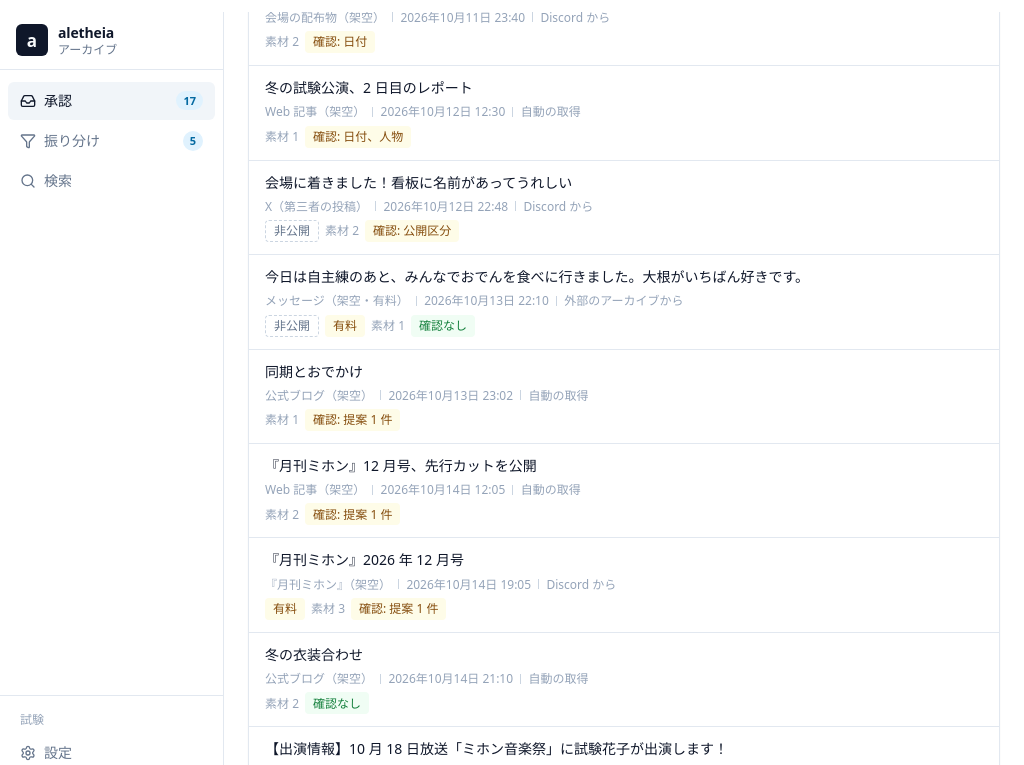
Test: 原文の保存の状況 › 原文を保存していないブログは、承認の前に足りないと分かる
(page scrolled)
Click the link "同期とおでかけ 公式ブログ（架空）2026年10月13日 23:02自動の取得 素材 1 確認: 提案 1 件". click: coordinates (427, 396)
box: [265, 362, 588, 431]
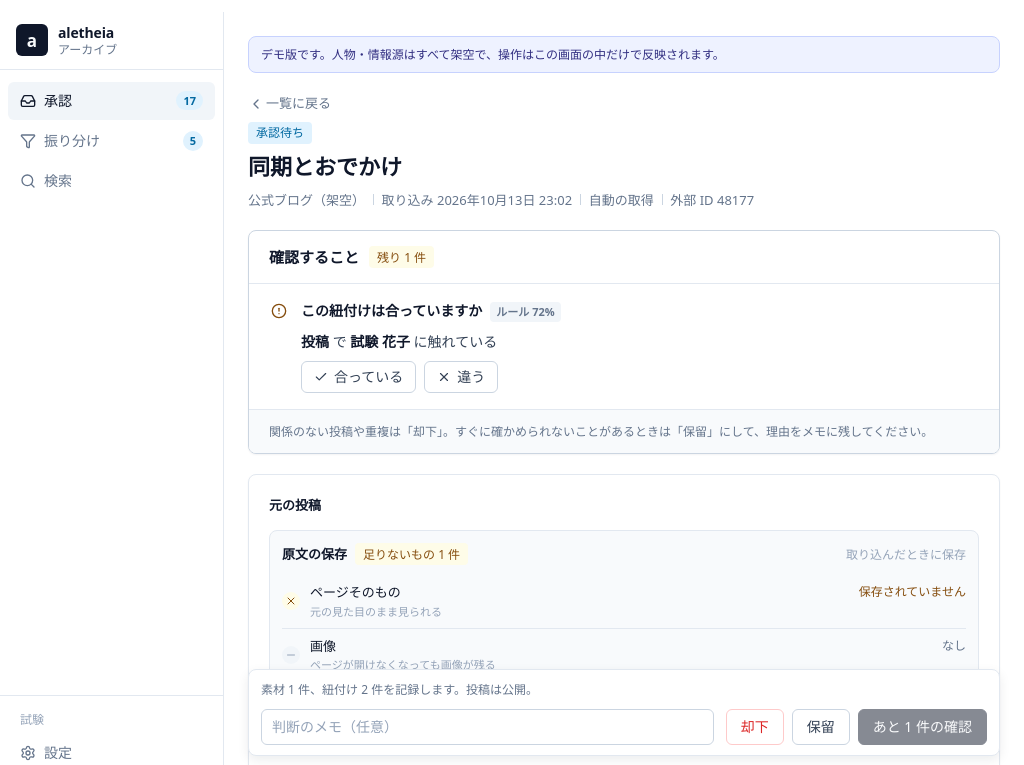
Now the text "足りないもの 1 件" is shown, box [355, 543, 468, 565]
